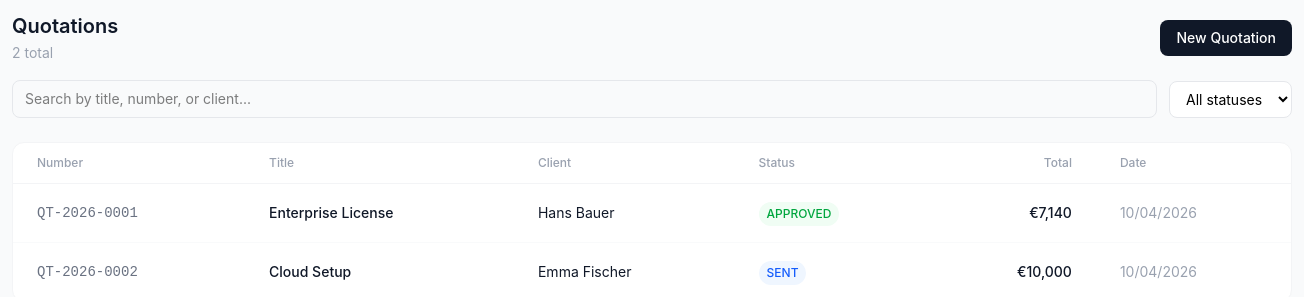
Test: QuotationsPage › shows clear button when search has text and clears on click
Type "Cloud" into the field with placeholder "Search by title, number, or client...".
click(584, 99); type("Cloud")  # box 12,80 -> 1157,118
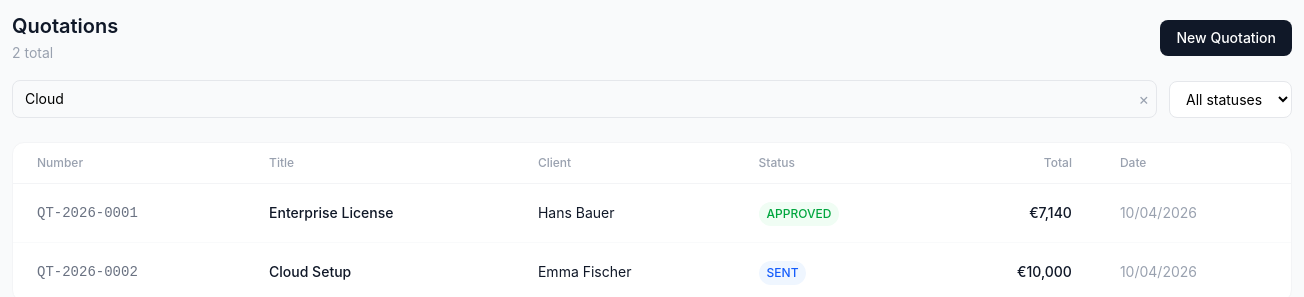
Now the button named "Clear search" is shown
Click the button named "Clear search".
click(1144, 99)  # box 1138,87 -> 1149,111
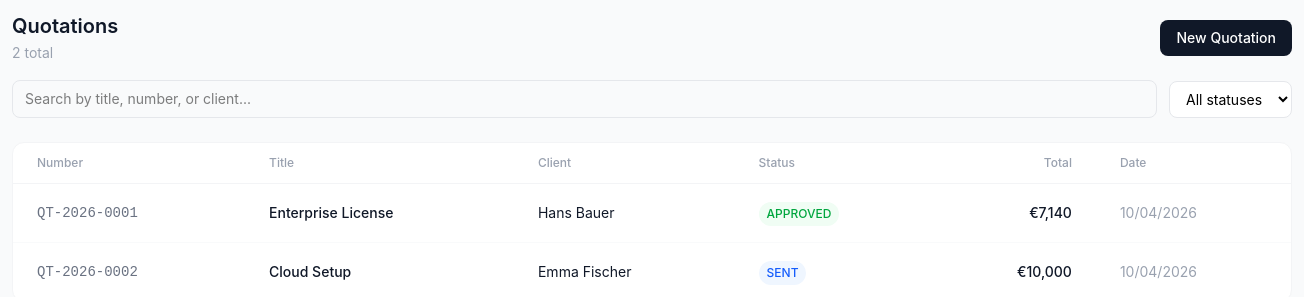
Now the field with placeholder "Search by title, number, or client..." is empty, box 12,80 -> 1157,118
